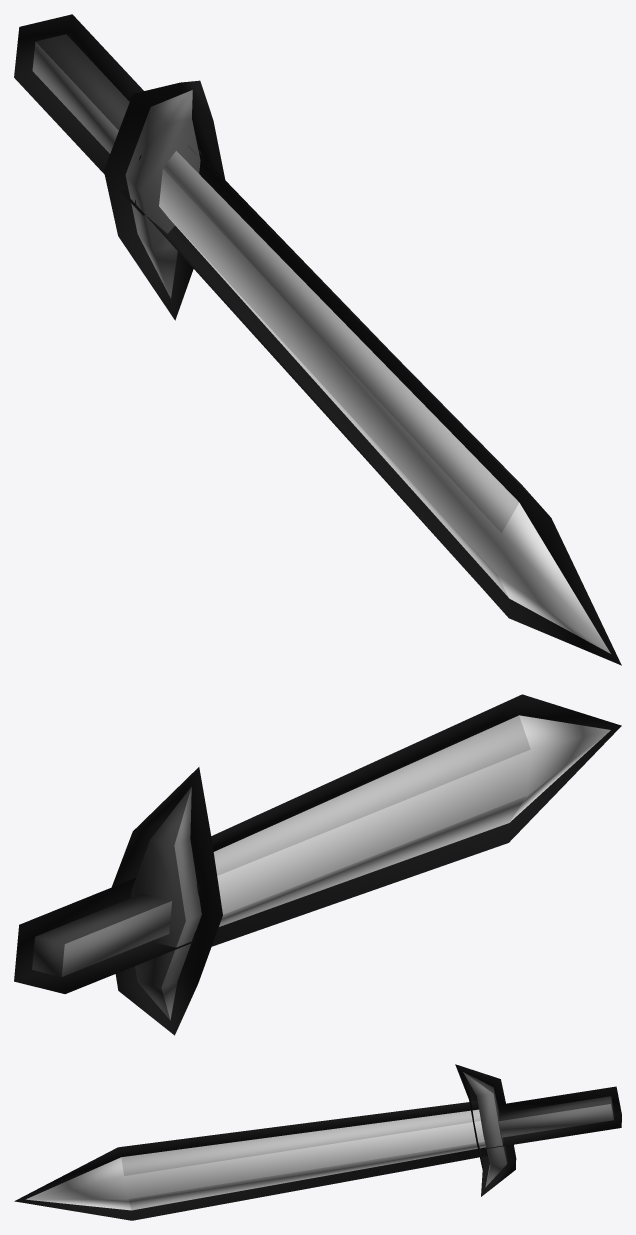
File: SwordR.FBX
3 views of the same model, one above another, from view 1: azimuth 30°, elevation 25°; view 2: azimuth 150°, elevation 25°; view 3: azimuth 270°, elevation 25° (orthographic). The views are drawn at different scales.
Visible parts, largest first — view 1: SwordR; view 2: SwordR; view 3: SwordR.
Part boxes in pixels (x1=…): SwordR: x1=14, y1=14, x2=621, y2=665; SwordR: x1=14, y1=694, x2=621, y2=1035; SwordR: x1=14, y1=1064, x2=621, y2=1220.
Bounding box in the file's own units: 14.23 × 45.48 × 159.
